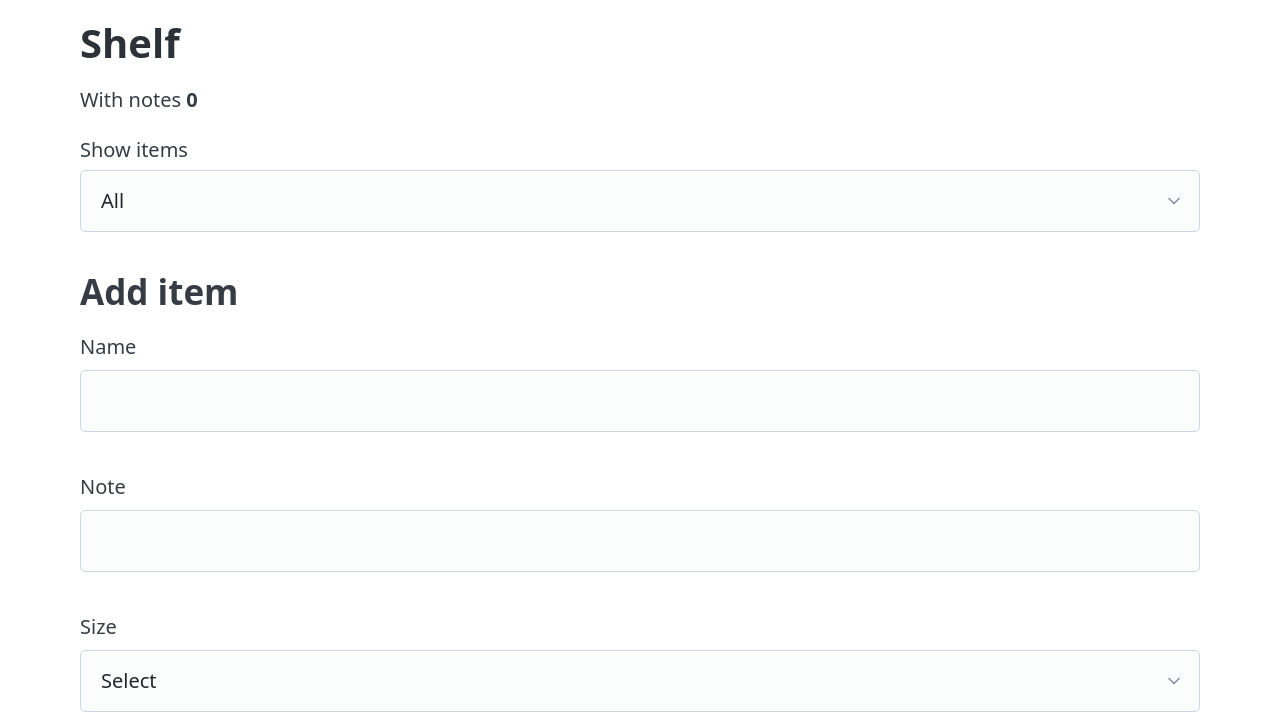
Test case: journey helpers › filters without hand-built option strings
Step 1. Type "Lamp" into the field labelled "Name" → [640, 401], box [80,370,1200,432]
Step 2. Type "spare" into the field labelled "Note" → [640, 541], box [80,510,1200,572]
(page scrolled)
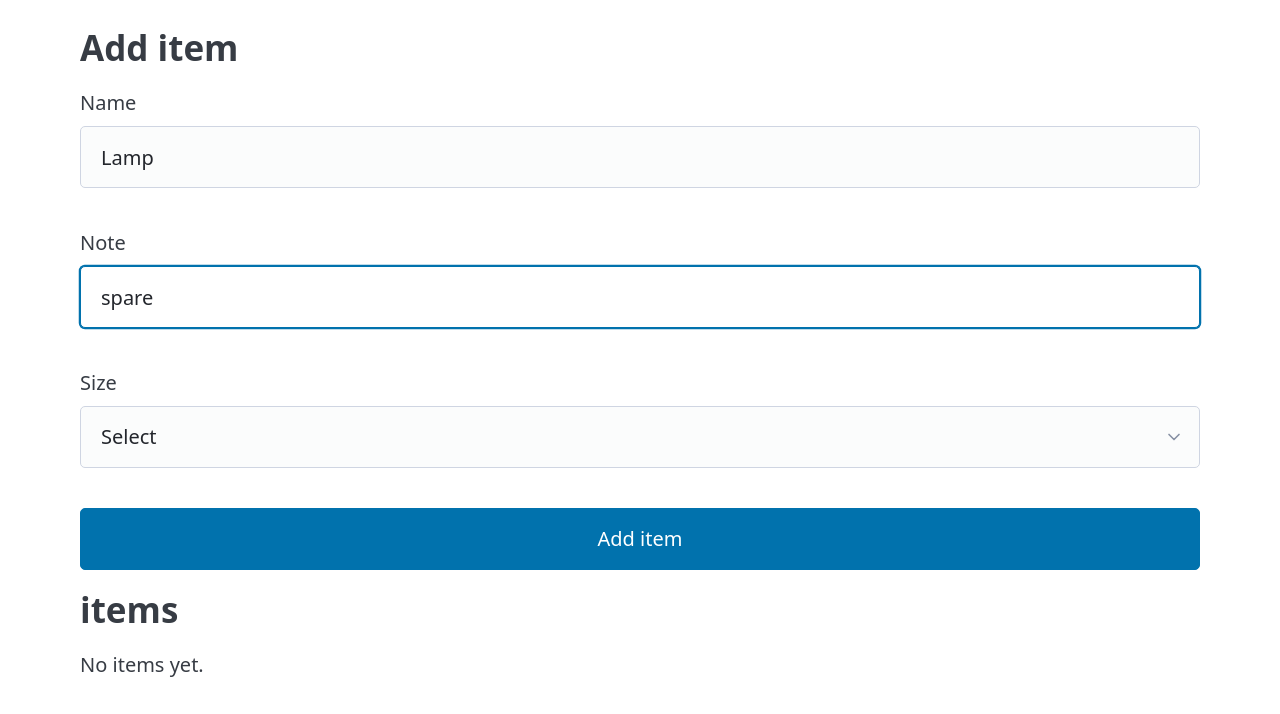
Step 3. Click the button "Add item" → [640, 539], box [80,508,1200,570]
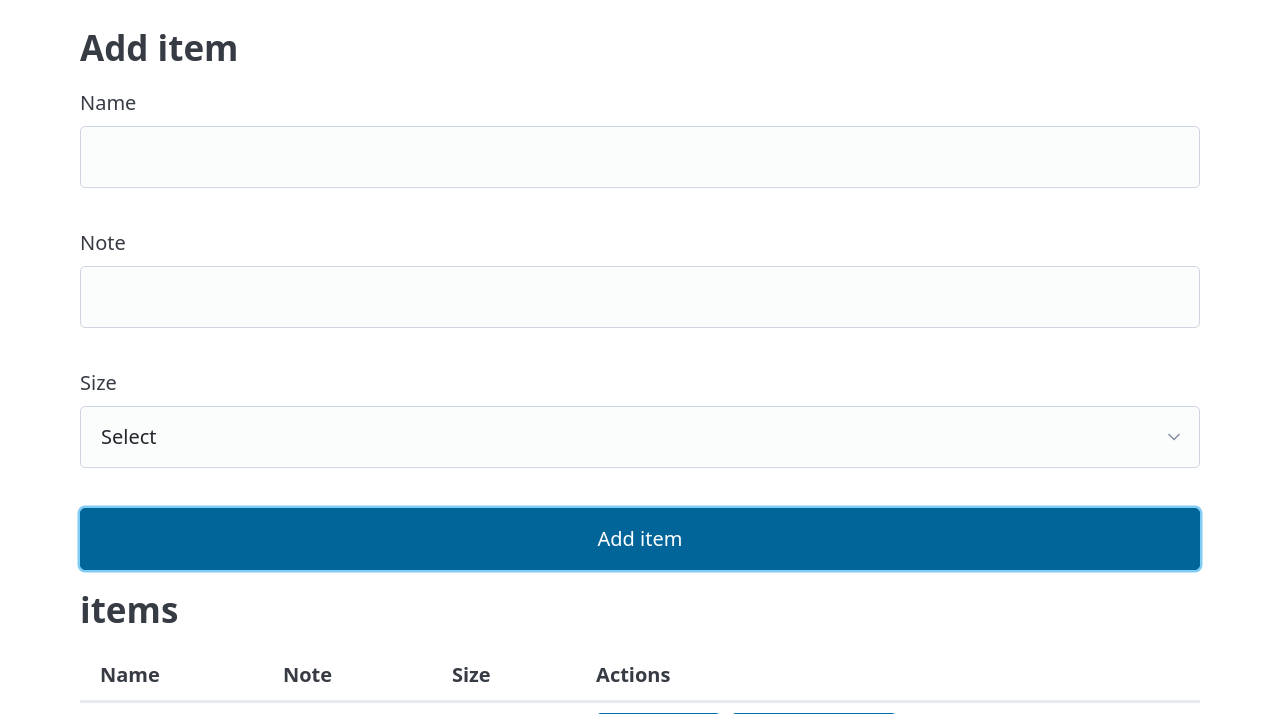
Step 4. Type "Rug" into the field labelled "Name" → [640, 157], box [80,126,1200,188]
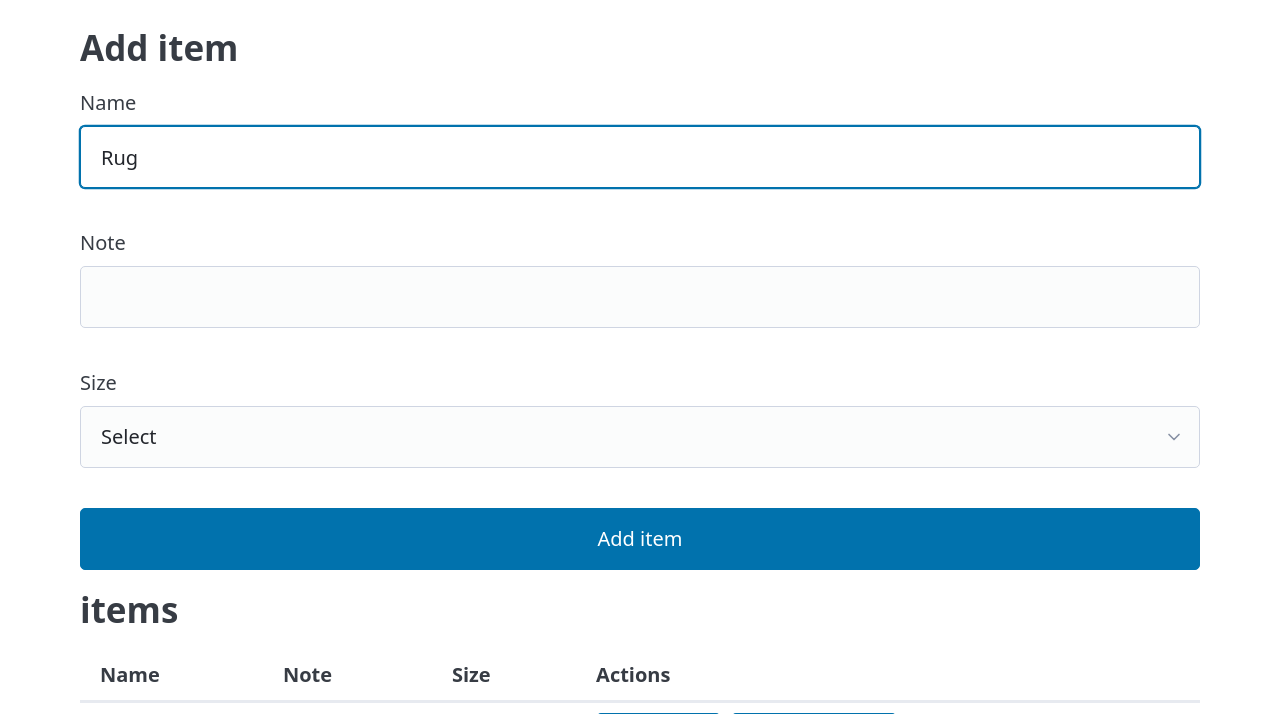
Step 5. Click the button "Add item" → [640, 539], box [80,508,1200,570]
(page scrolled)
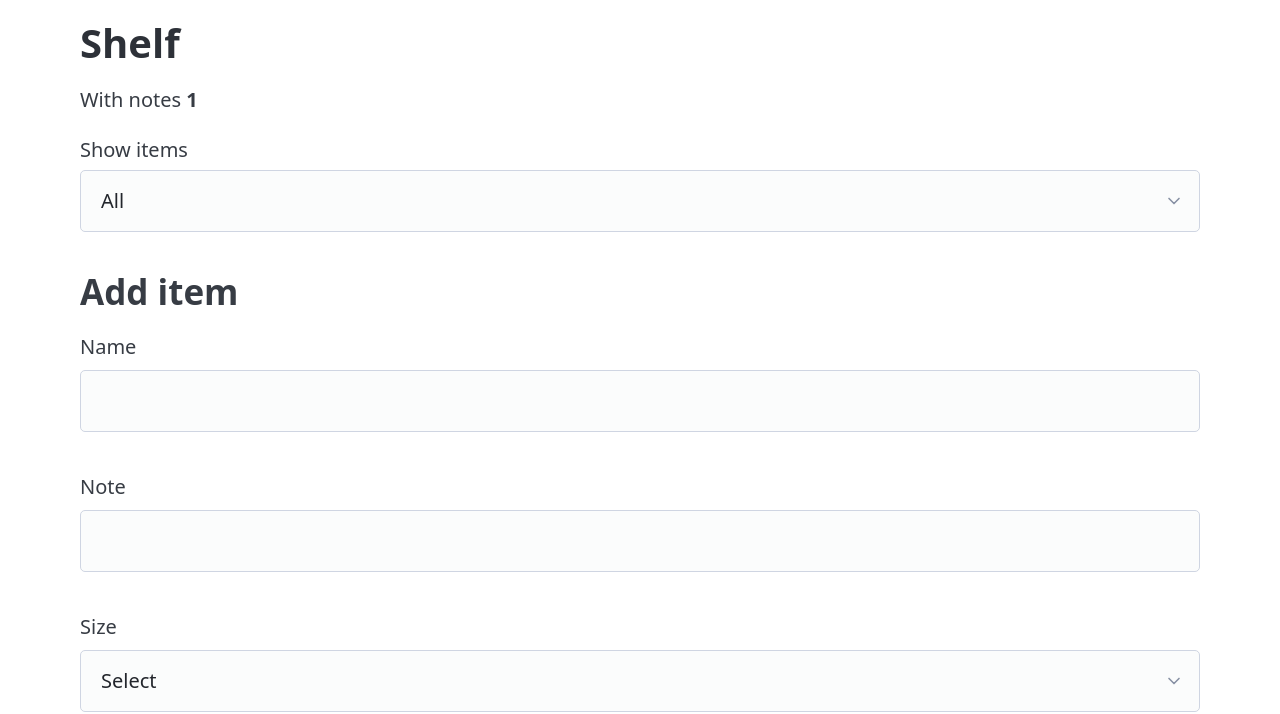
Step 6. Select "Note present" in the dropdown labelled "Show items" → [640, 201], box [80,170,1200,232]
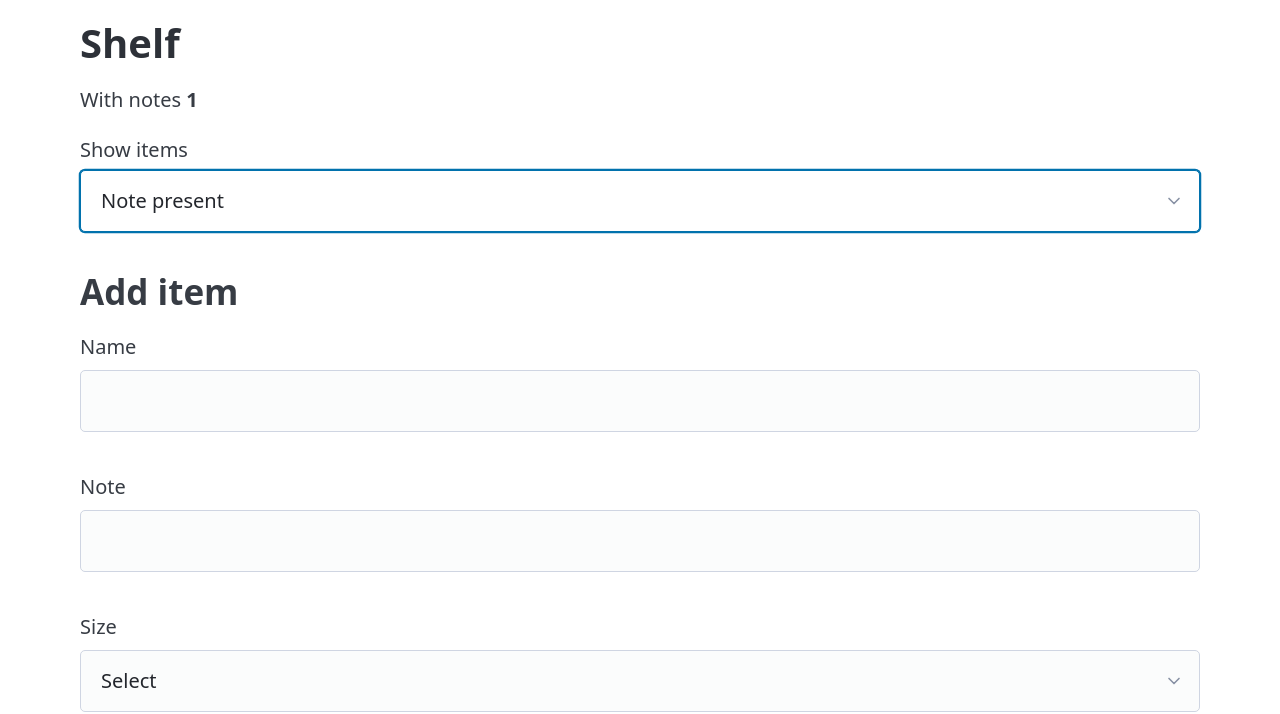
Step 7. Select "All" in the dropdown labelled "Show items" → [640, 201], box [80,170,1200,232]
(page scrolled)
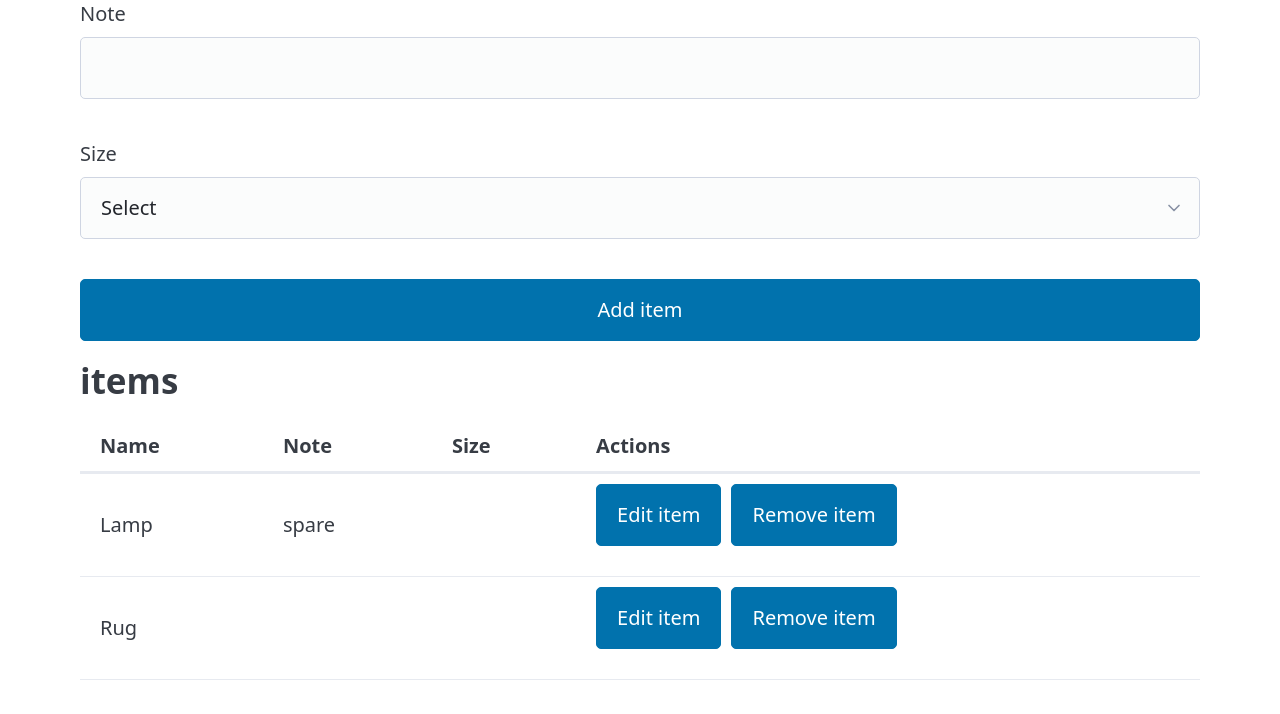
Expected: the row "Rug Edit item Remove item" is shown, [80,576,1200,680]
